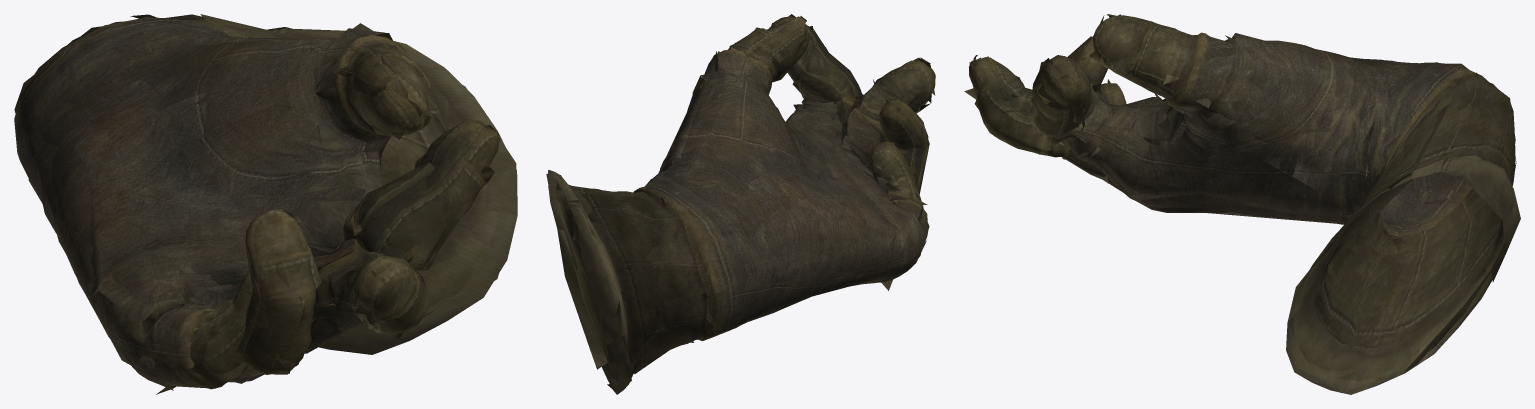
Rendered from BT_Hand_L_Pistol.glb.
The picture shows the model from 3 angles, left to right: view 1: azimuth 30°, elevation 25°; view 2: azimuth 150°, elevation 25°; view 3: azimuth 270°, elevation 25°; orthographic projection. The views are drawn at different scales.
Parts seen in each view (by area): view 1: BT_Glove_Close, BT_Glove_Far; view 2: BT_Glove_Close, BT_Glove_Far; view 3: BT_Glove_Close, BT_Glove_Far.
Part boxes in pixels (box(x1,y1,x2,y2)): BT_Glove_Close: box(14, 17, 517, 389); BT_Glove_Far: box(14, 14, 517, 394); BT_Glove_Close: box(547, 16, 935, 394); BT_Glove_Far: box(546, 14, 935, 391); BT_Glove_Close: box(969, 15, 1515, 394); BT_Glove_Far: box(964, 14, 1520, 392).
Size of the model in its own units: 0.1546 by 0.1338 by 0.2041.
Materials: 1 (1 with a texture image).
